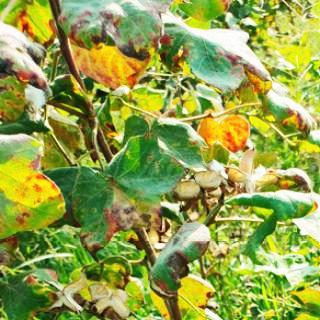blight: (54, 0, 285, 102), (52, 119, 194, 260)
